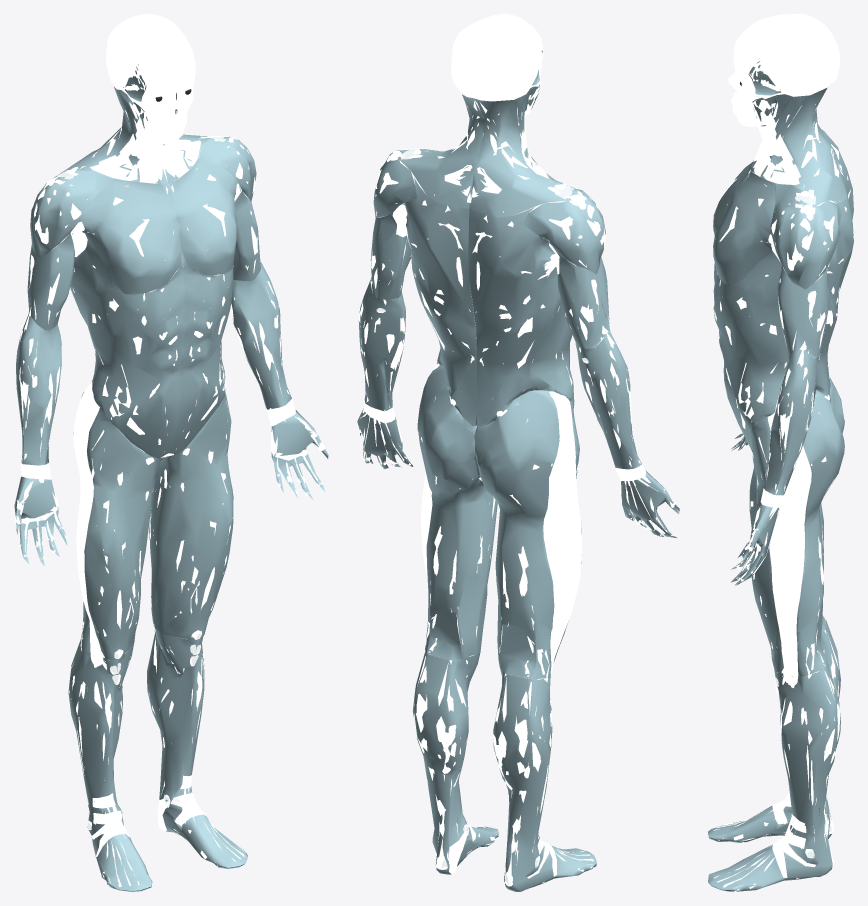
The model's file is nervoso.lod1.glb.
The picture shows the model from 3 angles, left to right: view 1: azimuth 30°, elevation 25°; view 2: azimuth 150°, elevation 25°; view 3: azimuth 270°, elevation 25°; orthographic projection. The views are drawn at different scales.
Visible parts, largest first — view 1: Investing abdominal fascia.r, Fascia lata.l, Fascia lata.r, Crural fascia.l, Crural fascia.r, Pectoral fascia.r, Investing abdominal fascia.l, Pectoral fascia.l, Antebrachial fascia.r, Antebrachial fascia.l, Deltoid fascia.r, Iliotibial tract.r (+14 smaller); view 2: Investing abdominal fascia.r, Fascia lata.r, Fascia lata.l, Investing abdominal fascia.l, Crural fascia.r, Crural fascia.l, Iliotibial tract.r, Superficial investing cervical fascia.r, Antebrachial fascia.r, Antebrachial fascia.l, Superficial investing cervical fascia.l, Deltoid fascia.r (+14 smaller); view 3: Investing abdominal fascia.l, Crural fascia.l, Fascia lata.l, Iliotibial tract.l, Pectoral fascia.l, Superficial investing cervical fascia.l, Deltoid fascia.l, Antebrachial fascia.l, Brachial fascia.l, Epicranial aponeurosis.l, Crural fascia.r, Temporoparietalis muscle.l (+22 smaller).
Part boxes in pixels (x1,y1,x2,y2): Investing abdominal fascia.r: [70, 240, 185, 458]; Fascia lata.l: [149, 392, 233, 639]; Fascia lata.r: [73, 381, 163, 660]; Crural fascia.l: [147, 624, 247, 868]; Crural fascia.r: [68, 640, 152, 891]; Pectoral fascia.r: [79, 179, 183, 295]; Investing abdominal fascia.l: [168, 264, 233, 453]; Pectoral fascia.l: [168, 158, 238, 275]; Antebrachial fascia.r: [16, 316, 61, 465]; Antebrachial fascia.l: [231, 262, 291, 409]; Deltoid fascia.r: [30, 170, 113, 256]; Iliotibial tract.r: [73, 381, 106, 669]; Investing abdominal fascia.r: [468, 207, 574, 427]; Fascia lata.r: [474, 390, 581, 679]; Fascia lata.l: [417, 364, 497, 658]; Investing abdominal fascia.l: [401, 177, 476, 426]; Crural fascia.r: [493, 667, 596, 891]; Crural fascia.l: [412, 652, 498, 874]; Iliotibial tract.r: [543, 391, 581, 677]; Superficial investing cervical fascia.r: [469, 87, 570, 217]; Antebrachial fascia.r: [575, 331, 641, 469]; Antebrachial fascia.l: [358, 278, 405, 411]; Superficial investing cervical fascia.l: [399, 94, 483, 208]; Deltoid fascia.r: [522, 174, 605, 274]; Investing abdominal fascia.l: [713, 195, 853, 449]; Crural fascia.l: [708, 659, 840, 891]; Fascia lata.l: [750, 390, 844, 676]; Iliotibial tract.l: [767, 412, 811, 685]; Pectoral fascia.l: [713, 171, 775, 286]; Superficial investing cervical fascia.l: [751, 87, 847, 205]; Deltoid fascia.l: [770, 184, 842, 289]; Antebrachial fascia.l: [764, 349, 819, 495]; Brachial fascia.l: [777, 262, 829, 358]; Epicranial aponeurosis.l: [738, 18, 839, 77]; Crural fascia.r: [708, 620, 840, 842]; Temporoparietalis muscle.l: [758, 46, 821, 96].
Size of the model in its own units: 0.6662 by 1.7 by 0.2672.
